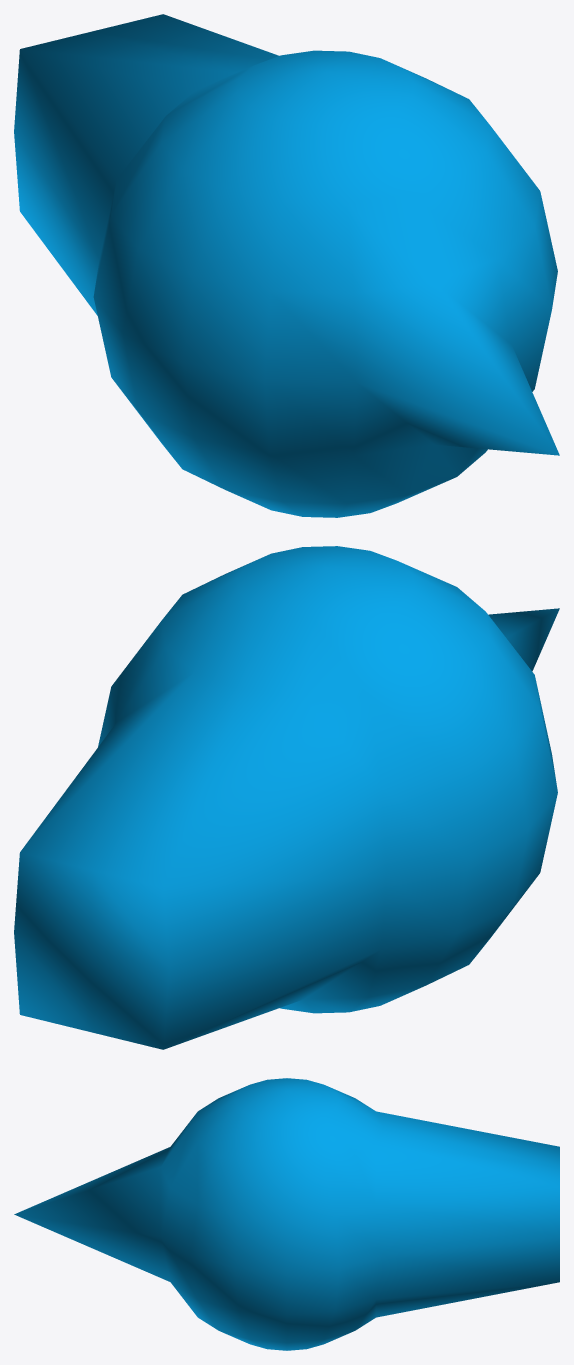
Rendered from Player2_FBX.FBX.
3 views of the same model, one above another, from view 1: azimuth 30°, elevation 25°; view 2: azimuth 150°, elevation 25°; view 3: azimuth 270°, elevation 25° (orthographic). The views are drawn at different scales.
Parts seen in each view (by area): view 1: Sphere001; view 2: Sphere001; view 3: Sphere001.
Part boxes in pixels (x1,y1,x2,y2): Sphere001: (14, 14, 559, 517); Sphere001: (14, 546, 559, 1049); Sphere001: (14, 1078, 559, 1350).
Bounding box in the file's own units: 10 × 10 × 20.
Materials: 1 (1 with a texture image).
